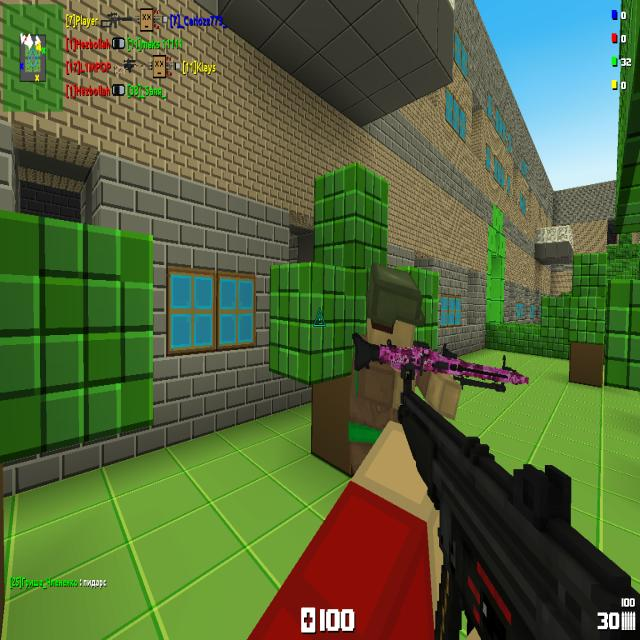enemy: (345, 260, 462, 489)
